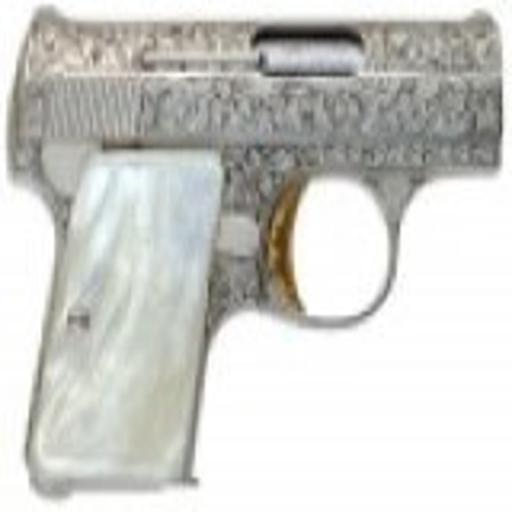Handgun: (5, 3, 501, 498)
